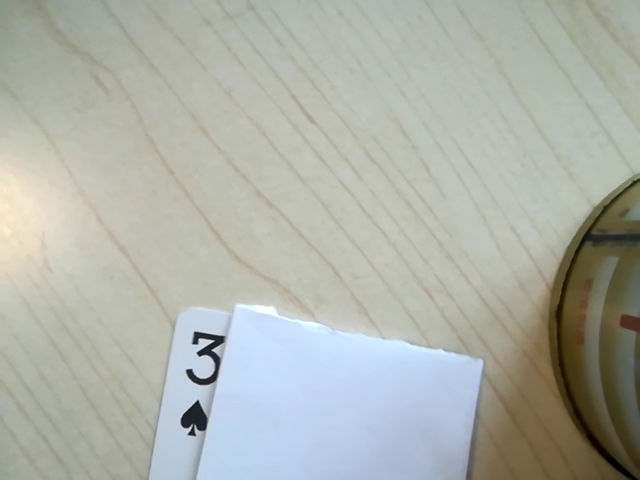ht 3: (170, 321, 236, 444)
